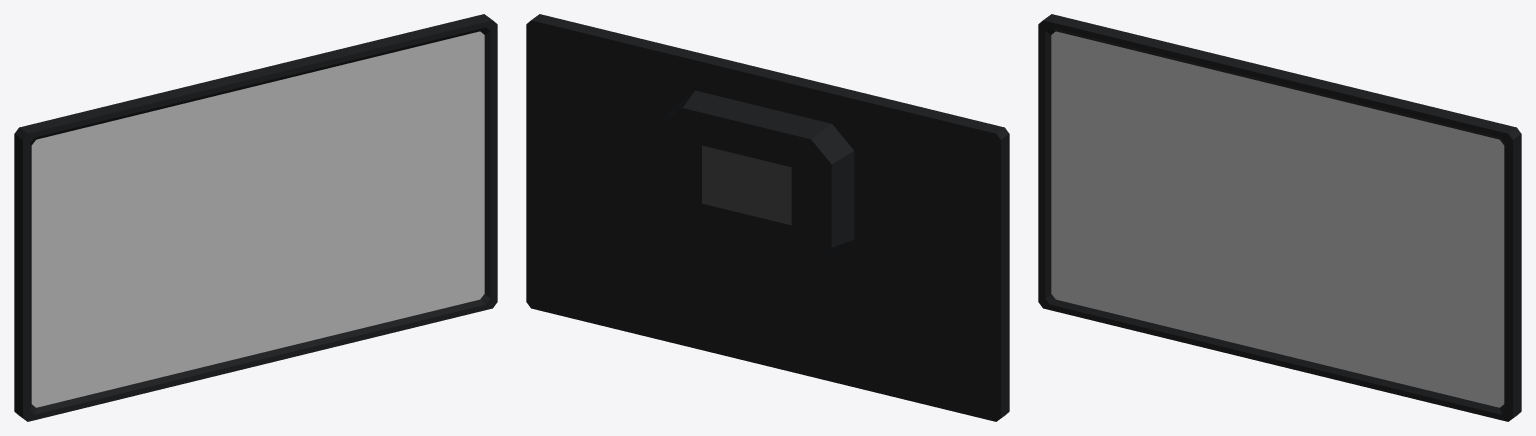
File: SM_Prop_Television_Flat_Wall_01.fbx
3 renders of one model, left to right at view 1: azimuth 30°, elevation 25°; view 2: azimuth 150°, elevation 25°; view 3: azimuth 330°, elevation 25°, orthographic.
Visible parts, largest first — view 1: SM_Prop_Television_Flat_Wall_01; view 2: SM_Prop_Television_Flat_Wall_01; view 3: SM_Prop_Television_Flat_Wall_01.
Part boxes in pixels (x1,y1,x2,y2): SM_Prop_Television_Flat_Wall_01: (14, 14, 497, 421); SM_Prop_Television_Flat_Wall_01: (526, 14, 1009, 421); SM_Prop_Television_Flat_Wall_01: (1038, 14, 1521, 421).
Size of the model in its own units: 154 by 89.42 by 14.26.
